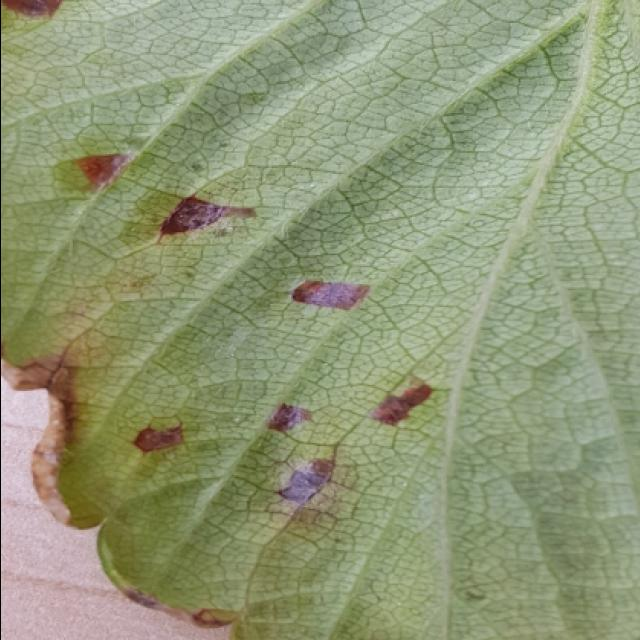Angular Leafspot: (2, 0, 436, 632)
